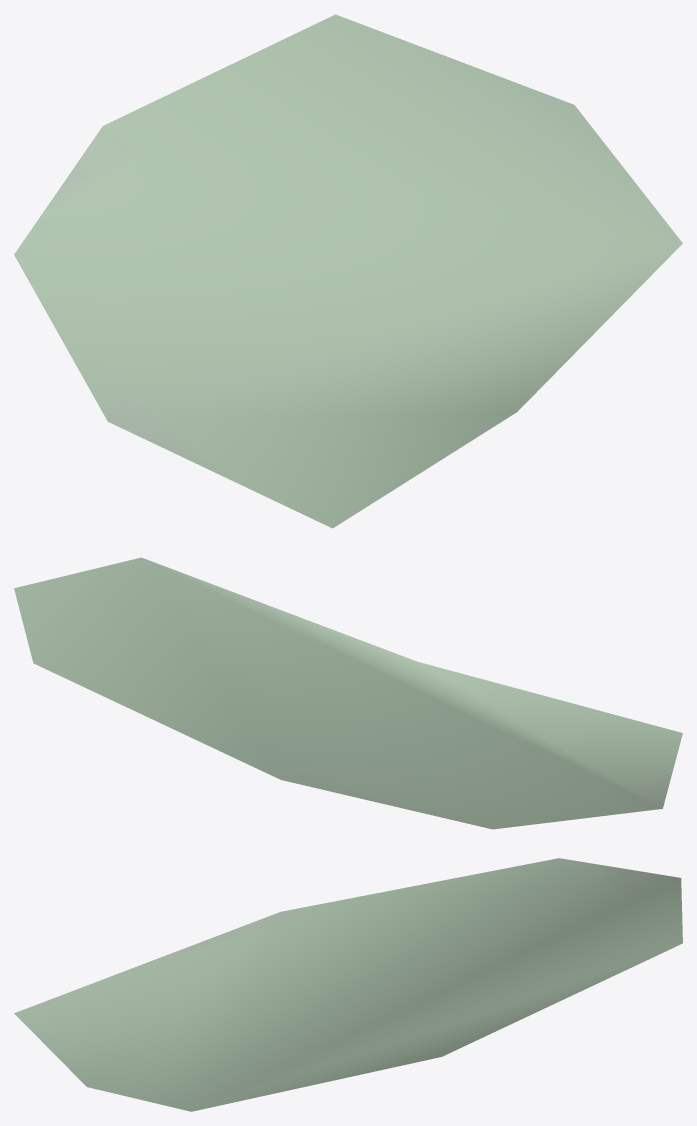
File: TROLLHOLE02_HOLECAP203.fbx
3 views of the same model, one above another, from view 1: azimuth 30°, elevation 25°; view 2: azimuth 150°, elevation 25°; view 3: azimuth 270°, elevation 25° (orthographic). The views are drawn at different scales.
Parts seen in each view (by area): view 1: TROLLHOLE02_HOLECAP203; view 2: TROLLHOLE02_HOLECAP203; view 3: TROLLHOLE02_HOLECAP203.
Boxes of the visible parts, x1=… form: TROLLHOLE02_HOLECAP203: x1=14, y1=14, x2=682, y2=528; TROLLHOLE02_HOLECAP203: x1=14, y1=557, x2=682, y2=829; TROLLHOLE02_HOLECAP203: x1=14, y1=858, x2=682, y2=1111.
Bounding box in the file's own units: 10400 × 3948 × 10202.
Materials: 1 (1 with a texture image).
